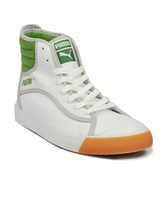shoes: (14, 26, 152, 157)
